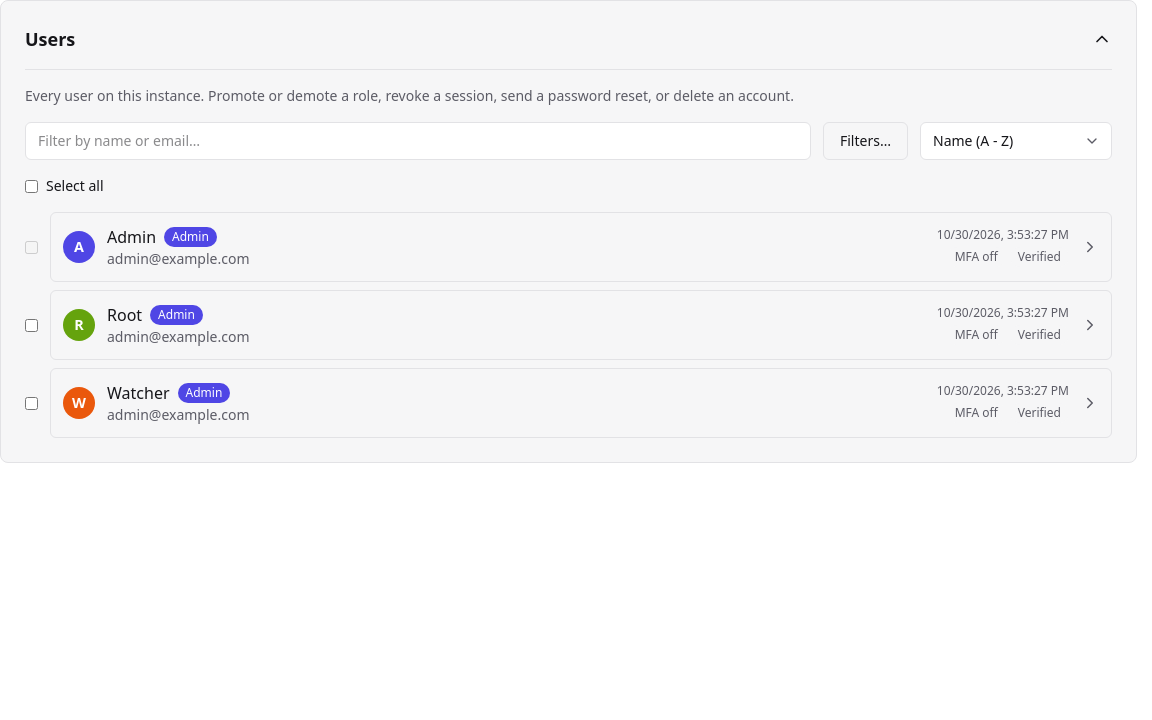
Test case: UsersPanel › select-all ticks every row except the acting admin's own
Expected: the text "Watcher" is shown, [107,381,170,405]
Click the checkbox labelled "Select all": {"x": 32, "y": 186} [25,180,38,192]
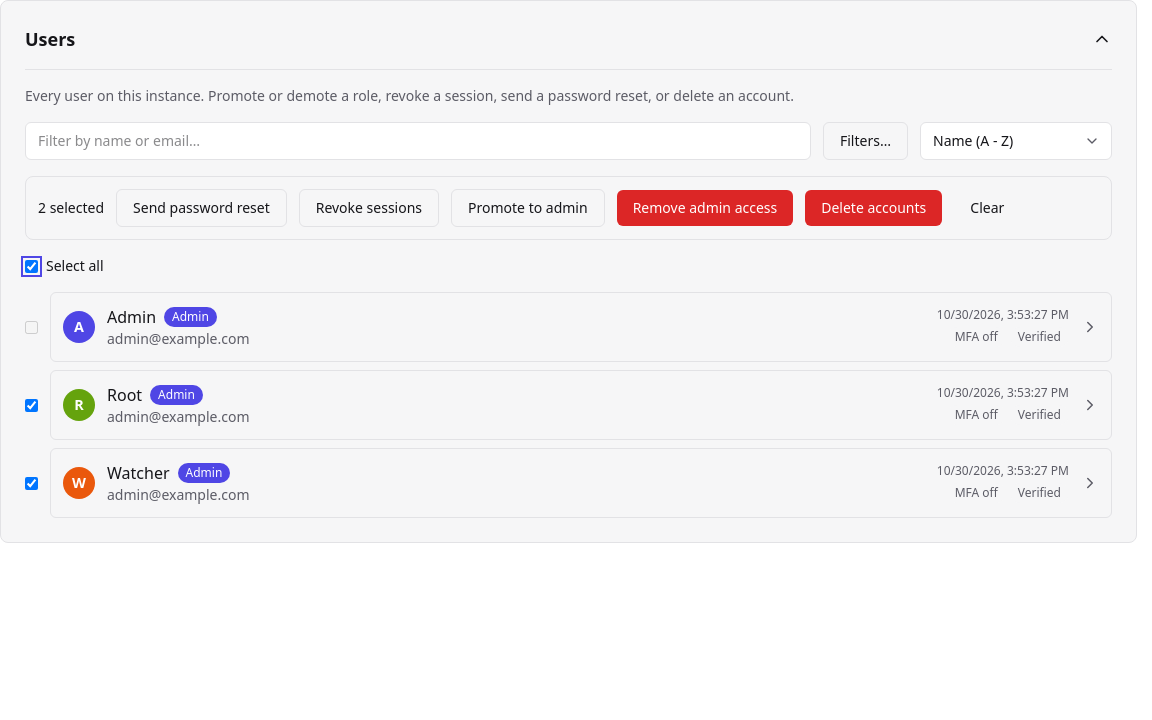
Now the text "2 selected" is shown, box [38,198,104,218]
Now the checkbox named "Select Watcher" in the row of "Watcher" is checked, box [25,476,38,490]
Now the checkbox named "Select Root" in the row of "Root" is checked, box [25,398,38,412]
